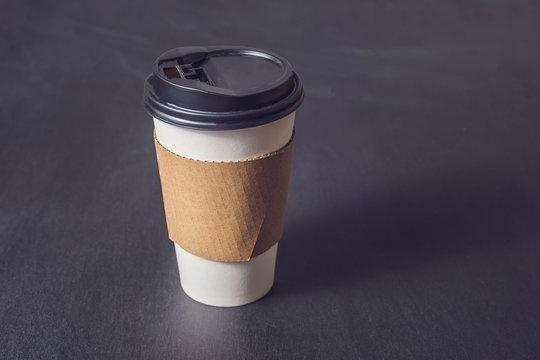cup-disposable: (142, 40, 306, 310)
